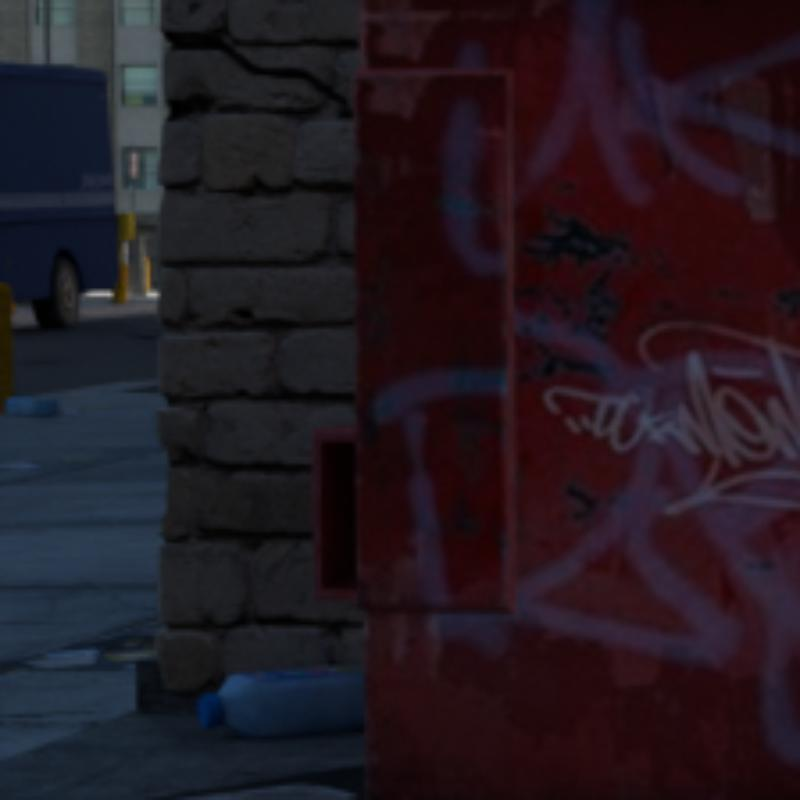crack: (171, 39, 350, 114)
